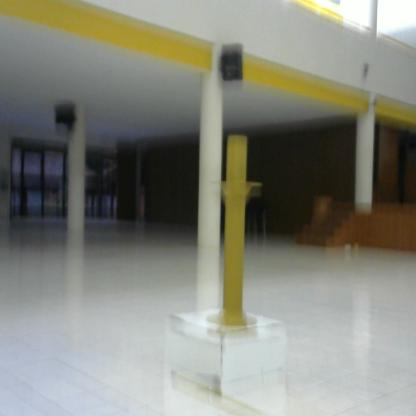pole: (205, 129, 269, 334)
